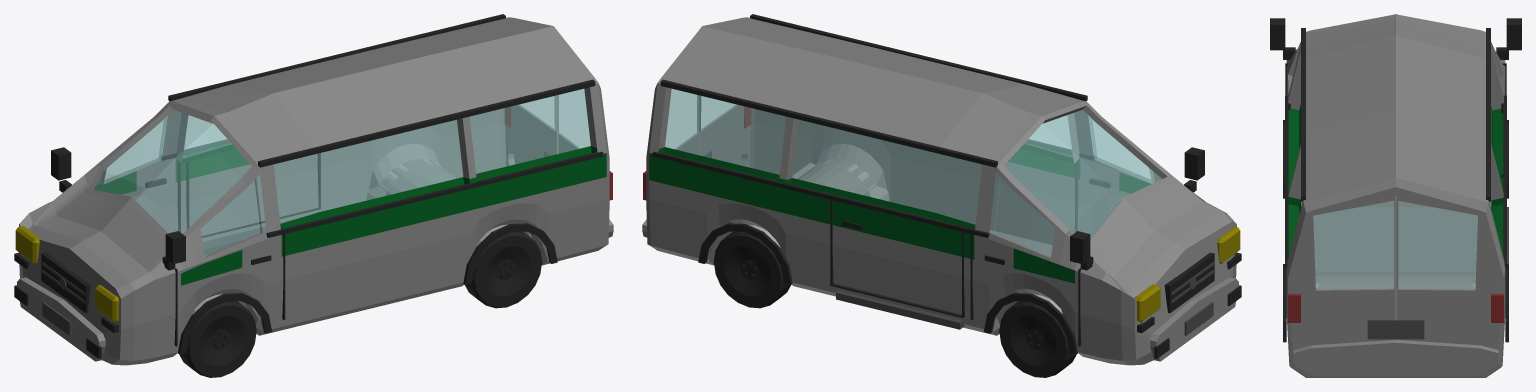
File: Combi1.fbx
The picture shows the model from 3 angles, left to right: view 1: azimuth 30°, elevation 25°; view 2: azimuth 150°, elevation 25°; view 3: azimuth 270°, elevation 25°; orthographic projection. The views are drawn at different scales.
Visible parts, largest first — view 1: nissan_urvan_lowpoly_v4:body, nissan_urvan_lowpoly_v4:wheel_2, nissan_urvan_lowpoly_v4:frame, nissan_urvan_lowpoly_v4:flares, nissan_urvan_lowpoly_v4:slidedoor, nissan_urvan_lowpoly_v4:mirrors, polySurface290, polySurface295, polySurface302, polySurface304; view 2: nissan_urvan_lowpoly_v4:body, nissan_urvan_lowpoly_v4:wheel_2, nissan_urvan_lowpoly_v4:frame, nissan_urvan_lowpoly_v4:flares, nissan_urvan_lowpoly_v4:slidedoor, nissan_urvan_lowpoly_v4:mirrors, polySurface290, polySurface304, polySurface295, polySurface302; view 3: nissan_urvan_lowpoly_v4:body, nissan_urvan_lowpoly_v4:frame, nissan_urvan_lowpoly_v4:mirrors, nissan_urvan_lowpoly_v4:plate1, nissan_urvan_lowpoly_v4:flares, nissan_urvan_lowpoly_v4:lights1, nissan_urvan_lowpoly_v4:rear_seam, nissan_urvan_lowpoly_v4:slidedoor.
Boxes of the visible parts, x1=… form: nissan_urvan_lowpoly_v4:body: x1=17, y1=17, x2=613, y2=365; nissan_urvan_lowpoly_v4:wheel_2: x1=179, y1=231, x2=542, y2=377; nissan_urvan_lowpoly_v4:frame: x1=162, y1=14, x2=603, y2=237; nissan_urvan_lowpoly_v4:flares: x1=178, y1=223, x2=557, y2=354; nissan_urvan_lowpoly_v4:slidedoor: x1=174, y1=150, x2=320, y2=346; nissan_urvan_lowpoly_v4:mirrors: x1=51, y1=147, x2=185, y2=270; polySurface290: x1=15, y1=226, x2=119, y2=322; polySurface295: x1=41, y1=252, x2=90, y2=313; polySurface302: x1=14, y1=252, x2=118, y2=358; polySurface304: x1=202, y1=220, x2=291, y2=255; nissan_urvan_lowpoly_v4:body: x1=642, y1=17, x2=1238, y2=365; nissan_urvan_lowpoly_v4:wheel_2: x1=713, y1=231, x2=1076, y2=377; nissan_urvan_lowpoly_v4:frame: x1=652, y1=14, x2=1093, y2=237; nissan_urvan_lowpoly_v4:flares: x1=698, y1=223, x2=1077, y2=354; nissan_urvan_lowpoly_v4:slidedoor: x1=830, y1=160, x2=1081, y2=346; nissan_urvan_lowpoly_v4:mirrors: x1=1070, y1=147, x2=1204, y2=270; polySurface290: x1=1135, y1=226, x2=1240, y2=322; polySurface304: x1=836, y1=290, x2=964, y2=329; polySurface295: x1=1164, y1=252, x2=1214, y2=313; polySurface302: x1=1137, y1=252, x2=1241, y2=358; nissan_urvan_lowpoly_v4:body: x1=1286, y1=14, x2=1505, y2=377; nissan_urvan_lowpoly_v4:frame: x1=1285, y1=28, x2=1506, y2=268; nissan_urvan_lowpoly_v4:mirrors: x1=1270, y1=18, x2=1521, y2=59; nissan_urvan_lowpoly_v4:plate1: x1=1367, y1=320, x2=1424, y2=339; nissan_urvan_lowpoly_v4:flares: x1=1283, y1=120, x2=1508, y2=342; nissan_urvan_lowpoly_v4:lights1: x1=1288, y1=294, x2=1503, y2=322; nissan_urvan_lowpoly_v4:rear_seam: x1=1395, y1=196, x2=1396, y2=340; nissan_urvan_lowpoly_v4:slidedoor: x1=1285, y1=63, x2=1506, y2=177.
Size of the model in its own units: 14.62 by 6.12 by 6.08.
